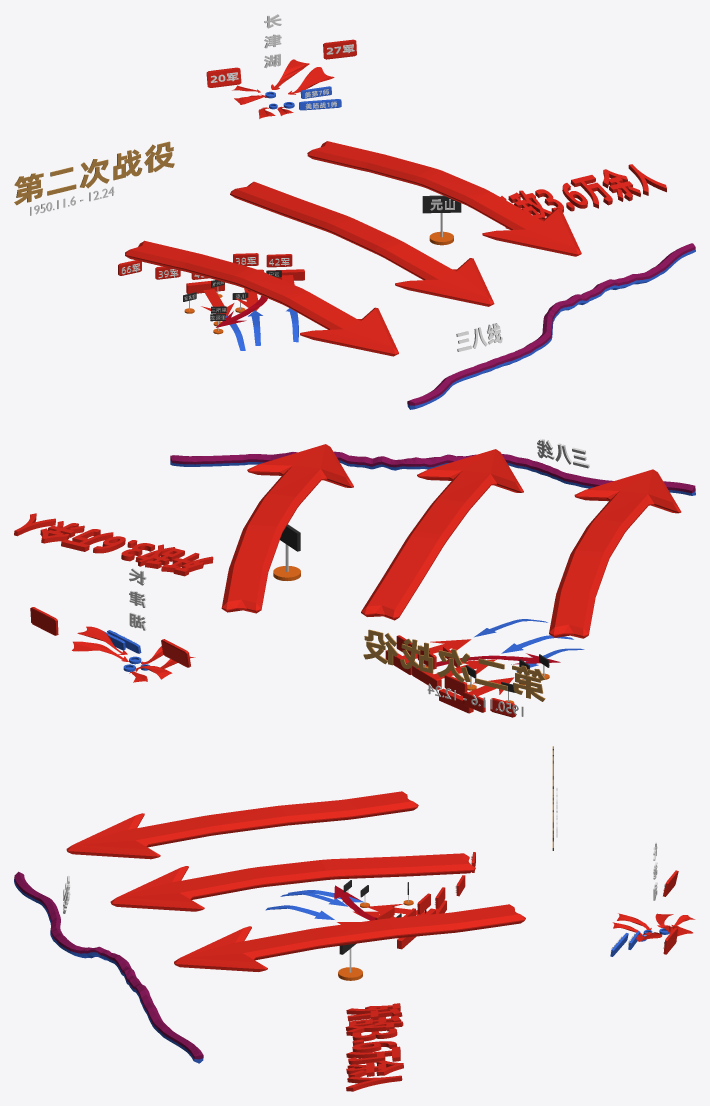
The model's file is 0-2-animate.glb.
3 renders of one model, top to bottom at view 1: azimuth 30°, elevation 25°; view 2: azimuth 150°, elevation 25°; view 3: azimuth 270°, elevation 25°, orthographic. The views are drawn at different scales.
Visible parts, largest first — view 1: 贝塞尔曲线.017, 贝塞尔曲线.016, 贝塞尔曲线.112, 38line1, 文本.015, 文本.013, 柱体.009, 立方体.019; view 2: 贝塞尔曲线.112, 贝塞尔曲线.017, 贝塞尔曲线.016, 38line1, 文本.015, 文本.013, 柱体.009, 文本.017, 文本.012, 立方体.021, 立方体.019, 文本.014 (+1 smaller); view 3: 贝塞尔曲线.112, 贝塞尔曲线.016, 贝塞尔曲线.017, 文本.015, 38line1.
Boxes of the visible parts, x1,y1,x2,y2 form: 贝塞尔曲线.017: (307,141,581,256); 贝塞尔曲线.016: (125,240,398,356); 贝塞尔曲线.112: (230,181,494,306); 38line1: (407,243,695,409); 文本.015: (500,164,666,229); 文本.013: (14,141,174,205); 柱体.009: (422,195,461,245); 立方体.019: (206,67,241,87); 贝塞尔曲线.112: (361,449,523,620); 贝塞尔曲线.017: (221,444,353,613); 贝塞尔曲线.016: (549,469,681,638); 38line1: (170,451,695,495); 文本.015: (14,513,213,576); 文本.013: (363,629,545,701); 柱体.009: (273,524,300,580); 文本.017: (537,438,589,468); 文本.012: (129,568,146,630); 立方体.021: (30,607,58,635); 立方体.019: (161,639,190,667); 文本.014: (427,683,523,716); 贝塞尔曲线.112: (110,853,475,911); 贝塞尔曲线.016: (66,791,418,859); 贝塞尔曲线.017: (174,904,525,971); 文本.015: (345,1003,403,1091); 38line1: (14,871,203,1063).
Size of what is drawn, in the model's own units: 44.83 by 12.42 by 47.22.
